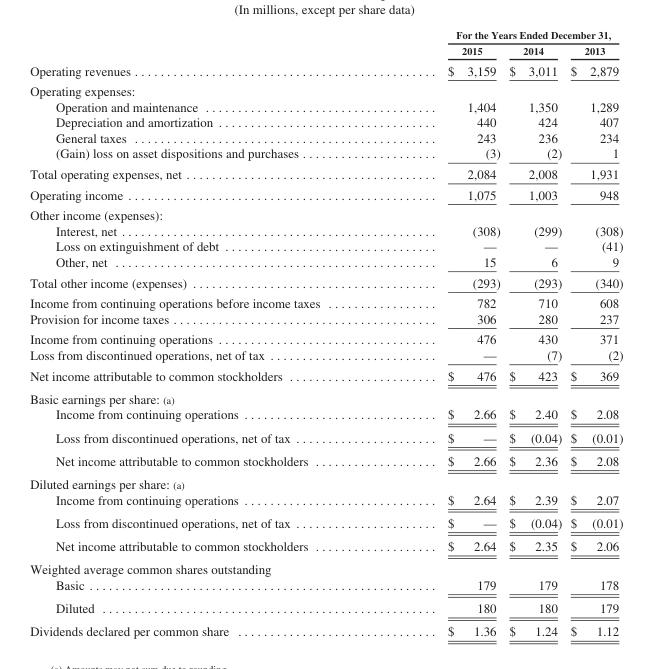table: (29, 28, 622, 638)
table column: (29, 28, 383, 638), (383, 28, 504, 638), (504, 28, 565, 638), (565, 28, 622, 638)
table column header: (29, 28, 622, 59)
table projected row header: (29, 386, 622, 406), (29, 472, 622, 491), (29, 557, 622, 576), (29, 80, 622, 98), (29, 204, 622, 222)
table row: (29, 448, 622, 472), (29, 510, 622, 534), (29, 425, 622, 448), (29, 534, 622, 557), (29, 596, 622, 619), (29, 364, 622, 386), (29, 59, 622, 80), (29, 183, 622, 204), (29, 271, 622, 292), (29, 163, 622, 183), (29, 386, 622, 406), (29, 576, 622, 596), (29, 406, 622, 425), (29, 472, 622, 491), (29, 491, 622, 510), (29, 557, 622, 576), (29, 619, 622, 638), (29, 80, 622, 98), (29, 145, 622, 163), (29, 204, 622, 222), (29, 253, 622, 271), (29, 292, 622, 310), (29, 310, 622, 328), (29, 328, 622, 346), (29, 346, 622, 364), (29, 42, 622, 59), (29, 98, 622, 114), (29, 129, 622, 145), (29, 222, 622, 238), (29, 114, 622, 129), (29, 238, 622, 253), (29, 28, 622, 42)
table spanning cell: (383, 28, 622, 42)
